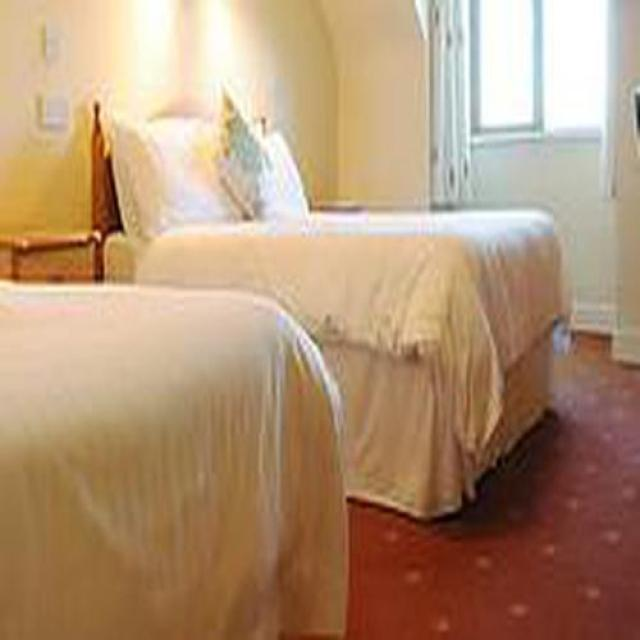bed: (91, 87, 571, 522)
